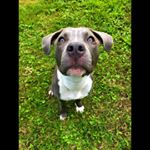puppy: (35, 24, 120, 126)
